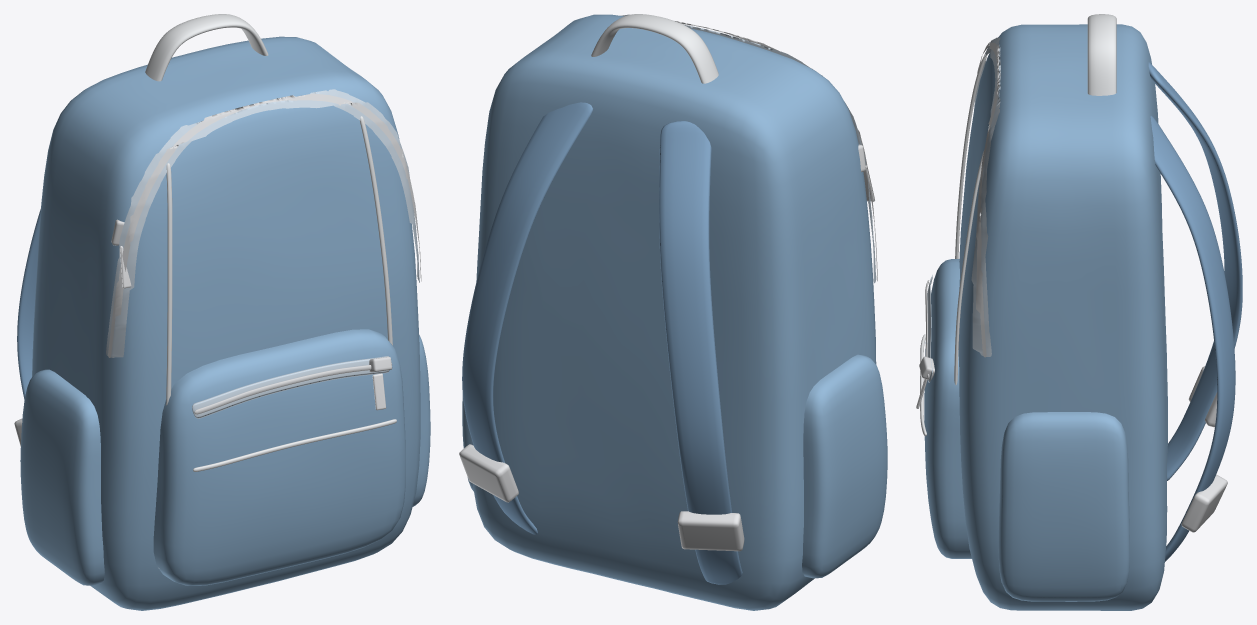
File: backpack.glb
The picture shows the model from 3 angles, left to right: view 1: azimuth 30°, elevation 25°; view 2: azimuth 150°, elevation 25°; view 3: azimuth 270°, elevation 25°; orthographic projection. The views are drawn at different scales.
Visible parts, largest first — view 1: BODY_MAIN, POCKET_FRONT, POCKET_SIDE_L, ZIPPER_MAIN_TAPE, ZIPPER_MAIN_TEETH, HANDLE_TOP, ZIPPER_POCKET_TAPE, STRAP_L, POCKET_SIDE_R, SEAM_BODY_L, SEAM_BODY_R, SEAM_POCKET_H (+1 smaller); view 2: BODY_MAIN, STRAP_L, POCKET_SIDE_L, STRAP_R, HANDLE_TOP, BUCKLE_L, BUCKLE_R, ZIPPER_MAIN_TAPE; view 3: BODY_MAIN, POCKET_SIDE_R, POCKET_FRONT, STRAP_R, STRAP_L, ZIPPER_MAIN_TAPE, HANDLE_TOP, ZIPPER_MAIN_TEETH, BUCKLE_R, SEAM_BODY_R, SEAM_BODY_L.
Boxes of the visible parts, x1=… form: BODY_MAIN: x1=32, y1=36, x2=420, y2=610; POCKET_FRONT: x1=153, y1=329, x2=405, y2=585; POCKET_SIDE_L: x1=20, y1=369, x2=104, y2=585; ZIPPER_MAIN_TAPE: x1=106, y1=89, x2=419, y2=357; ZIPPER_MAIN_TEETH: x1=108, y1=93, x2=421, y2=357; HANDLE_TOP: x1=145, y1=14, x2=268, y2=81; ZIPPER_POCKET_TAPE: x1=192, y1=356, x2=389, y2=418; STRAP_L: x1=17, y1=209, x2=40, y2=399; POCKET_SIDE_R: x1=412, y1=334, x2=430, y2=506; SEAM_BODY_L: x1=158, y1=163, x2=172, y2=568; SEAM_BODY_R: x1=359, y1=116, x2=392, y2=345; SEAM_POCKET_H: x1=193, y1=419, x2=396, y2=471; BODY_MAIN: x1=471, y1=14, x2=876, y2=610; STRAP_L: x1=659, y1=121, x2=742, y2=584; POCKET_SIDE_L: x1=802, y1=354, x2=887, y2=578; STRAP_R: x1=462, y1=102, x2=592, y2=534; HANDLE_TOP: x1=591, y1=14, x2=718, y2=83; BUCKLE_L: x1=677, y1=511, x2=744, y2=551; BUCKLE_R: x1=459, y1=444, x2=518, y2=502; ZIPPER_MAIN_TAPE: x1=621, y1=14, x2=876, y2=283; BODY_MAIN: x1=958, y1=24, x2=1167, y2=610; POCKET_SIDE_R: x1=998, y1=412, x2=1129, y2=601; POCKET_FRONT: x1=924, y1=259, x2=971, y2=558; STRAP_R: x1=1150, y1=115, x2=1235, y2=561; STRAP_L: x1=1148, y1=62, x2=1242, y2=480; ZIPPER_MAIN_TAPE: x1=971, y1=37, x2=1000, y2=356; HANDLE_TOP: x1=1087, y1=14, x2=1116, y2=95; ZIPPER_MAIN_TEETH: x1=976, y1=42, x2=999, y2=357; BUCKLE_R: x1=1181, y1=474, x2=1227, y2=532; SEAM_BODY_R: x1=954, y1=150, x2=984, y2=384; SEAM_BODY_L: x1=955, y1=54, x2=987, y2=258.
Bounding box in the file's own units: 0.3433 × 0.487 × 0.2707.
